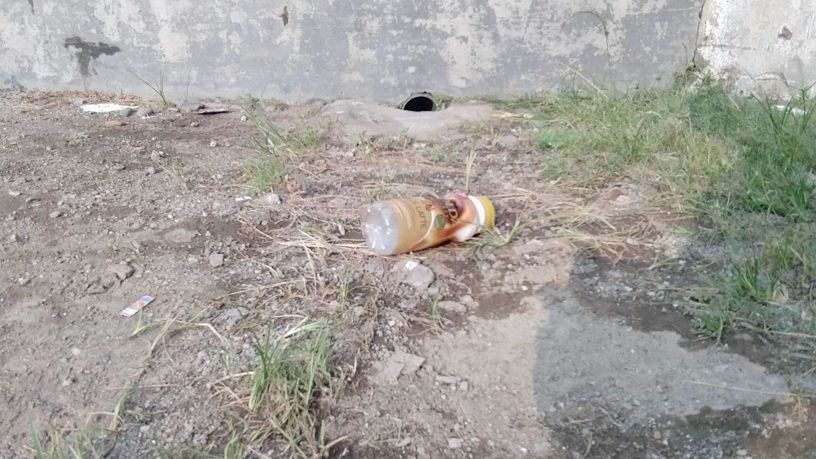botol: (352, 175, 504, 254)
